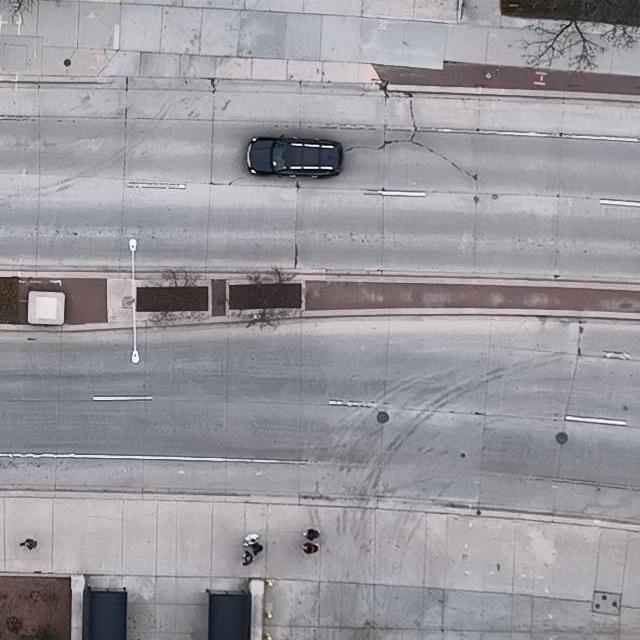car: (245, 135, 343, 179)
